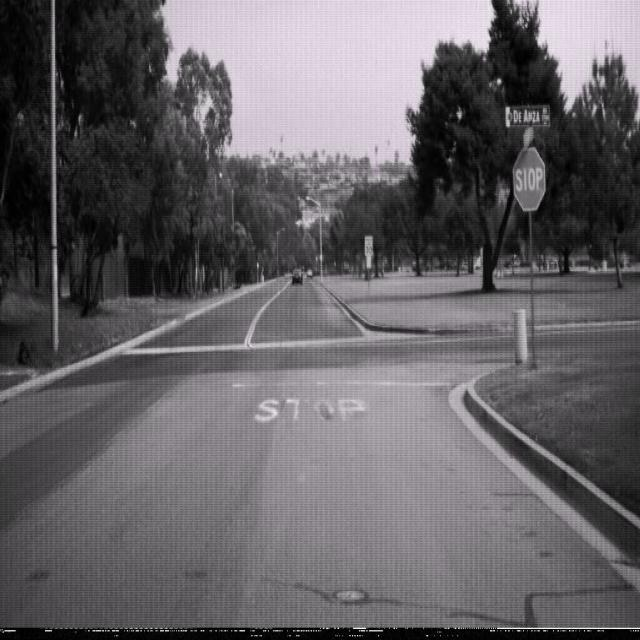stop_sign: (512, 145, 546, 212)
